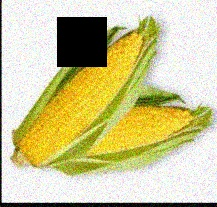corn: (12, 21, 155, 169), (53, 106, 208, 173)
